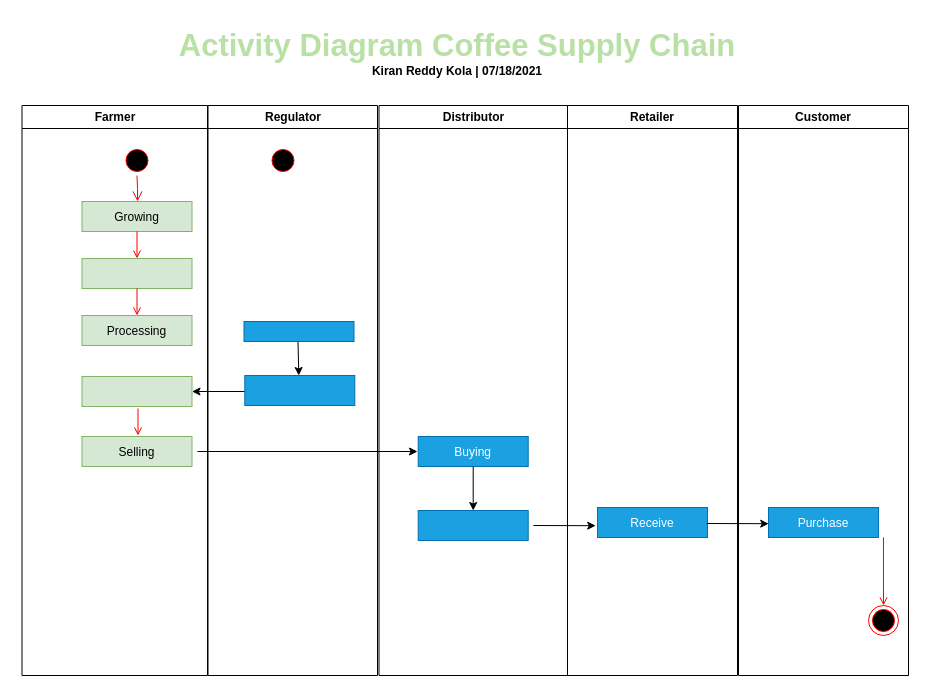
Image size: 926x693. Some labels were removed from this diagram. The centre of each missing label's shape, as x and y in pixels:
"Harvesting" goes at pixel 136 273.
"Packing" goes at pixel 136 391.
"QA Approved" goes at pixel 299 390.
"Quality testing" goes at pixel 298 331.
"Shipping" goes at pixel 472 525.
